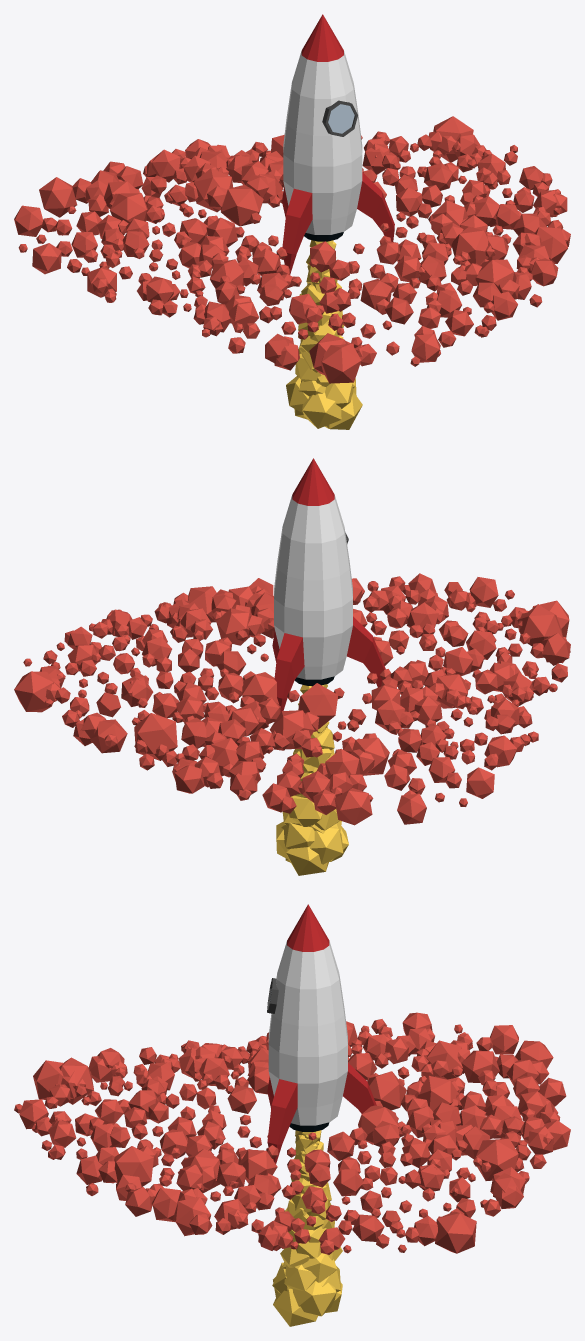
The model's file is rocket.glb.
The picture shows the model from 3 angles, top to bottom: view 1: azimuth 30°, elevation 25°; view 2: azimuth 150°, elevation 25°; view 3: azimuth 270°, elevation 25°; orthographic projection.
Visible parts, largest first — view 1: RocketSmokeGroundBaked, Cylinder.001, RocketSmokeEngineBaked; view 2: RocketSmokeGroundBaked, Cylinder.001, RocketSmokeEngineBaked; view 3: RocketSmokeGroundBaked, Cylinder.001, RocketSmokeEngineBaked.
Part boxes in pixels (x1,y1,x2,y2): RocketSmokeGroundBaked: (14, 116, 570, 383); Cylinder.001: (282, 14, 394, 274); RocketSmokeEngineBaked: (286, 240, 362, 429); RocketSmokeGroundBaked: (14, 573, 570, 825); Cylinder.001: (272, 458, 385, 712); RocketSmokeEngineBaked: (276, 684, 348, 875); RocketSmokeGroundBaked: (14, 1012, 570, 1254); Cylinder.001: (267, 904, 376, 1163); RocketSmokeEngineBaked: (272, 1130, 342, 1326).
Bounding box in the file's own units: 4.34 × 3.59 × 4.38.
